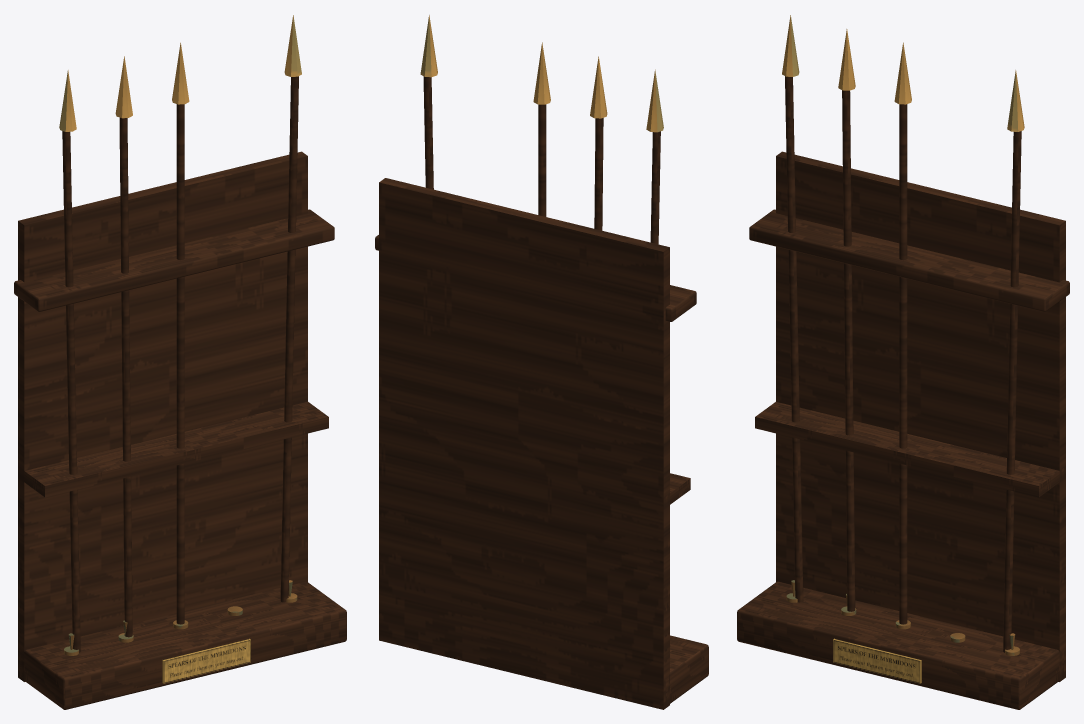
The model's file is spear_rack.gltf.
3 renders of one model, left to right at view 1: azimuth 30°, elevation 25°; view 2: azimuth 150°, elevation 25°; view 3: azimuth 330°, elevation 25°, orthographic.
Visible parts, largest first — view 1: SpearRack; view 2: SpearRack; view 3: SpearRack.
Boxes of the visible parts, x1,y1,x2,y2 form: SpearRack: [14, 15, 346, 709]; SpearRack: [375, 15, 708, 709]; SpearRack: [737, 15, 1069, 709].
Size of the model in its own units: 1.36 by 2.7 by 0.375.
Materials: 2 (2 with a texture image).
